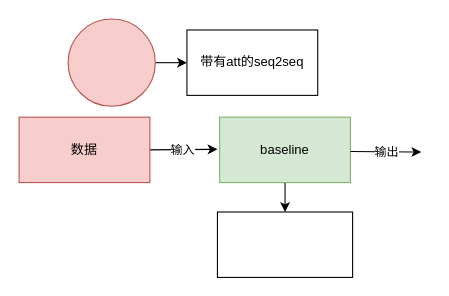
The diagram is 449 pixels wide and 296 high, and some of its shapes have lost their labels. The box of each missing label's shape, as (x1, y1, x2, y2) in pixels:
其他任务的baseline: (67, 18, 155, 106)
训练baseline: (216, 211, 353, 277)
